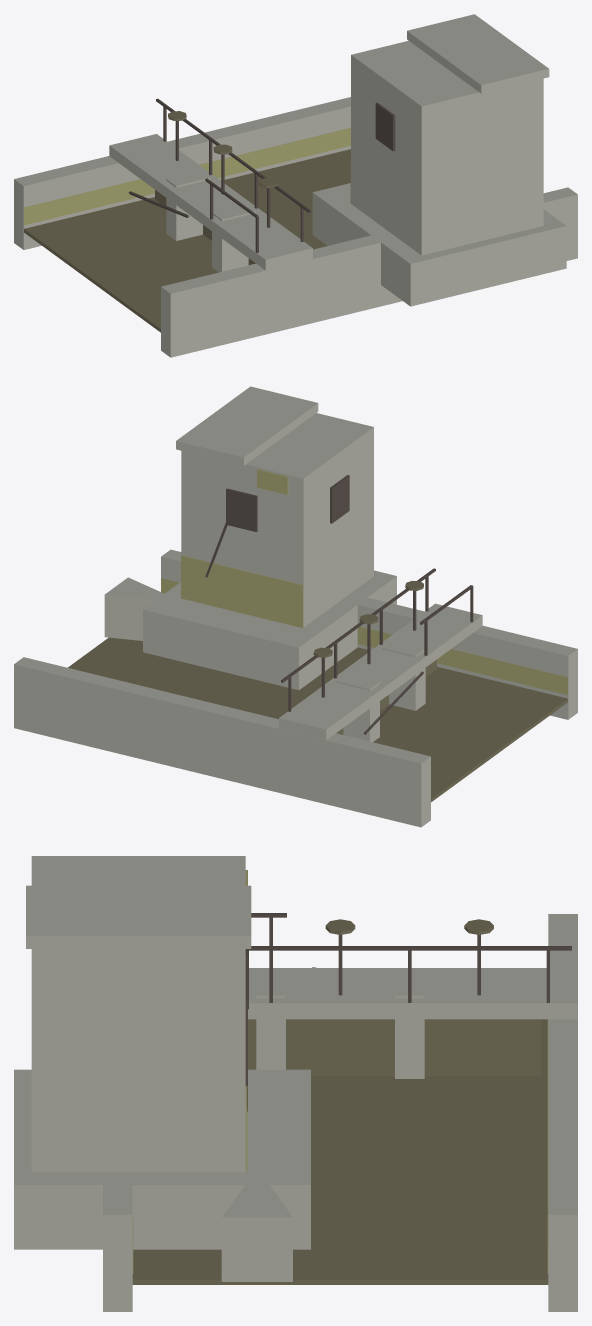
The model's file is SM_CasetaCompuertas_v3_Abandonada_LOD0.fbx.
3 views of the same model, one above another, from view 1: azimuth 30°, elevation 25°; view 2: azimuth 150°, elevation 25°; view 3: azimuth 270°, elevation 25° (orthographic). The views are drawn at different scales.
Parts seen in each view (by area): view 1: SM_bloques.caseta_compuertas_v3_LOD0; view 2: SM_bloques.caseta_compuertas_v3_LOD0; view 3: SM_bloques.caseta_compuertas_v3_LOD0.
Part boxes in pixels (box(x1,y1,x2,y2)): SM_bloques.caseta_compuertas_v3_LOD0: box(14, 14, 577, 357); SM_bloques.caseta_compuertas_v3_LOD0: box(14, 386, 577, 827); SM_bloques.caseta_compuertas_v3_LOD0: box(14, 856, 577, 1311).
Bounding box in the file's own units: 12.1 × 6.24 × 9.5.
